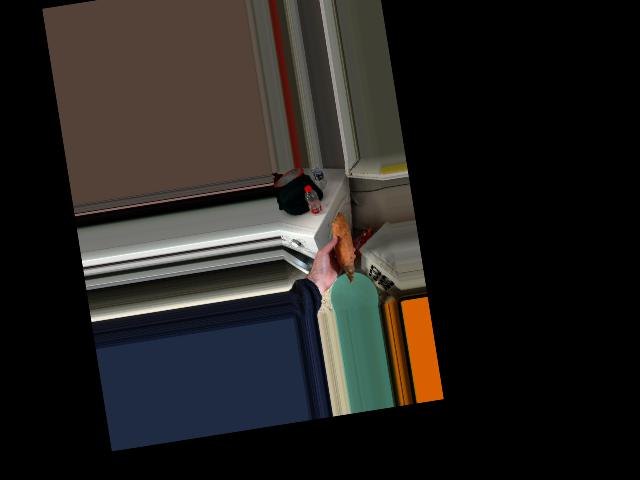sweet_potato: (331, 213, 356, 276)
